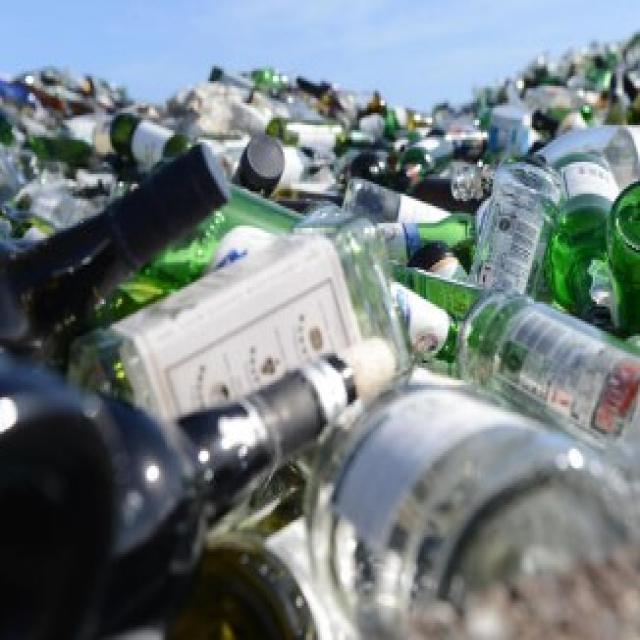electronic: (0, 133, 414, 640)
